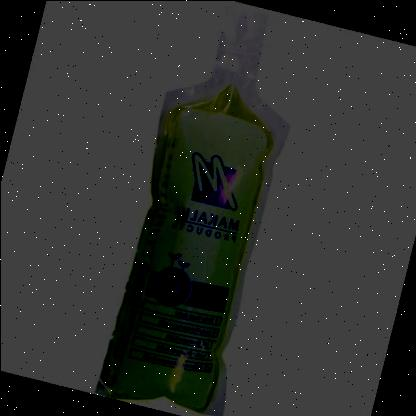Others: (90, 0, 290, 416)
